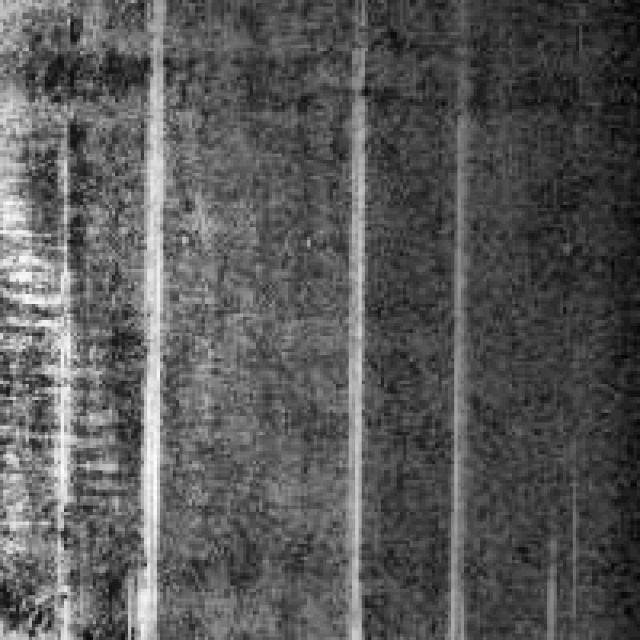Inclusion: (125, 35, 164, 634), (330, 52, 368, 630), (438, 109, 468, 630)
